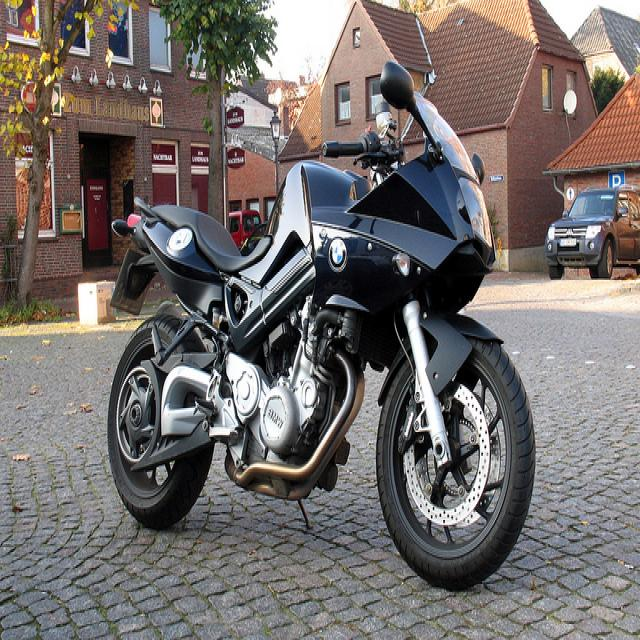motor: (102, 58, 539, 597)
